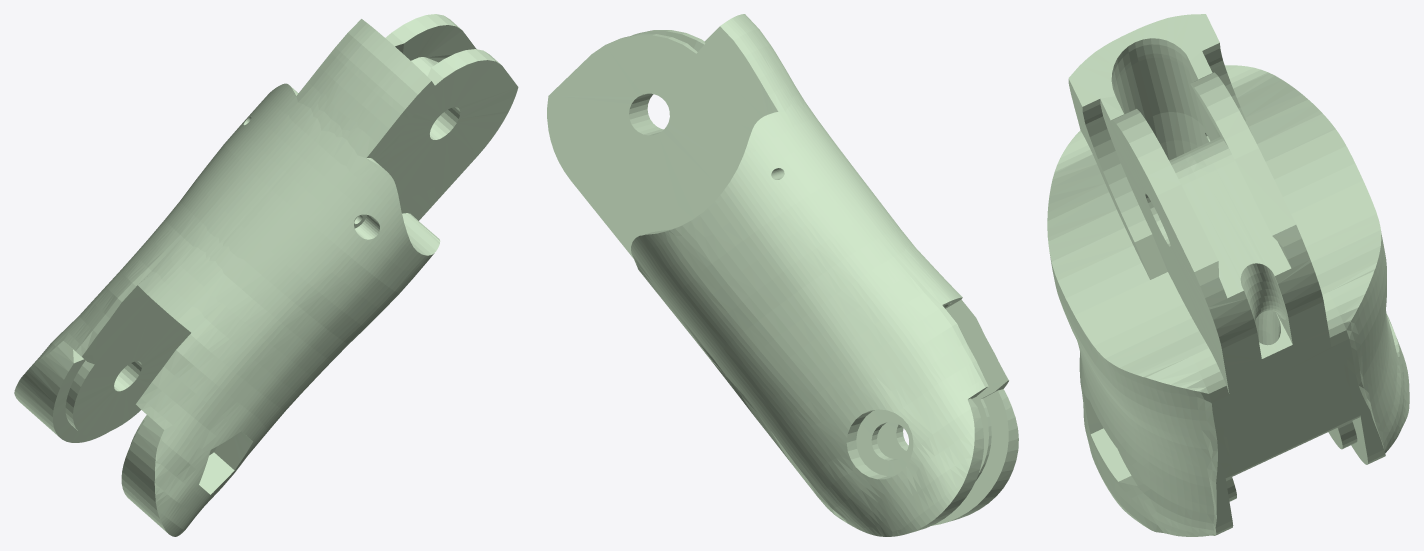
Rendered from i02_rightHand_ThumbMid_visual.obj.full.glb.
3 renders of one model, left to right at view 1: azimuth 30°, elevation 25°; view 2: azimuth 150°, elevation 25°; view 3: azimuth 270°, elevation 25°, orthographic. The views are drawn at different scales.
Bounding box in the file's own units: 0.4503 × 0.4356 × 0.2184.
